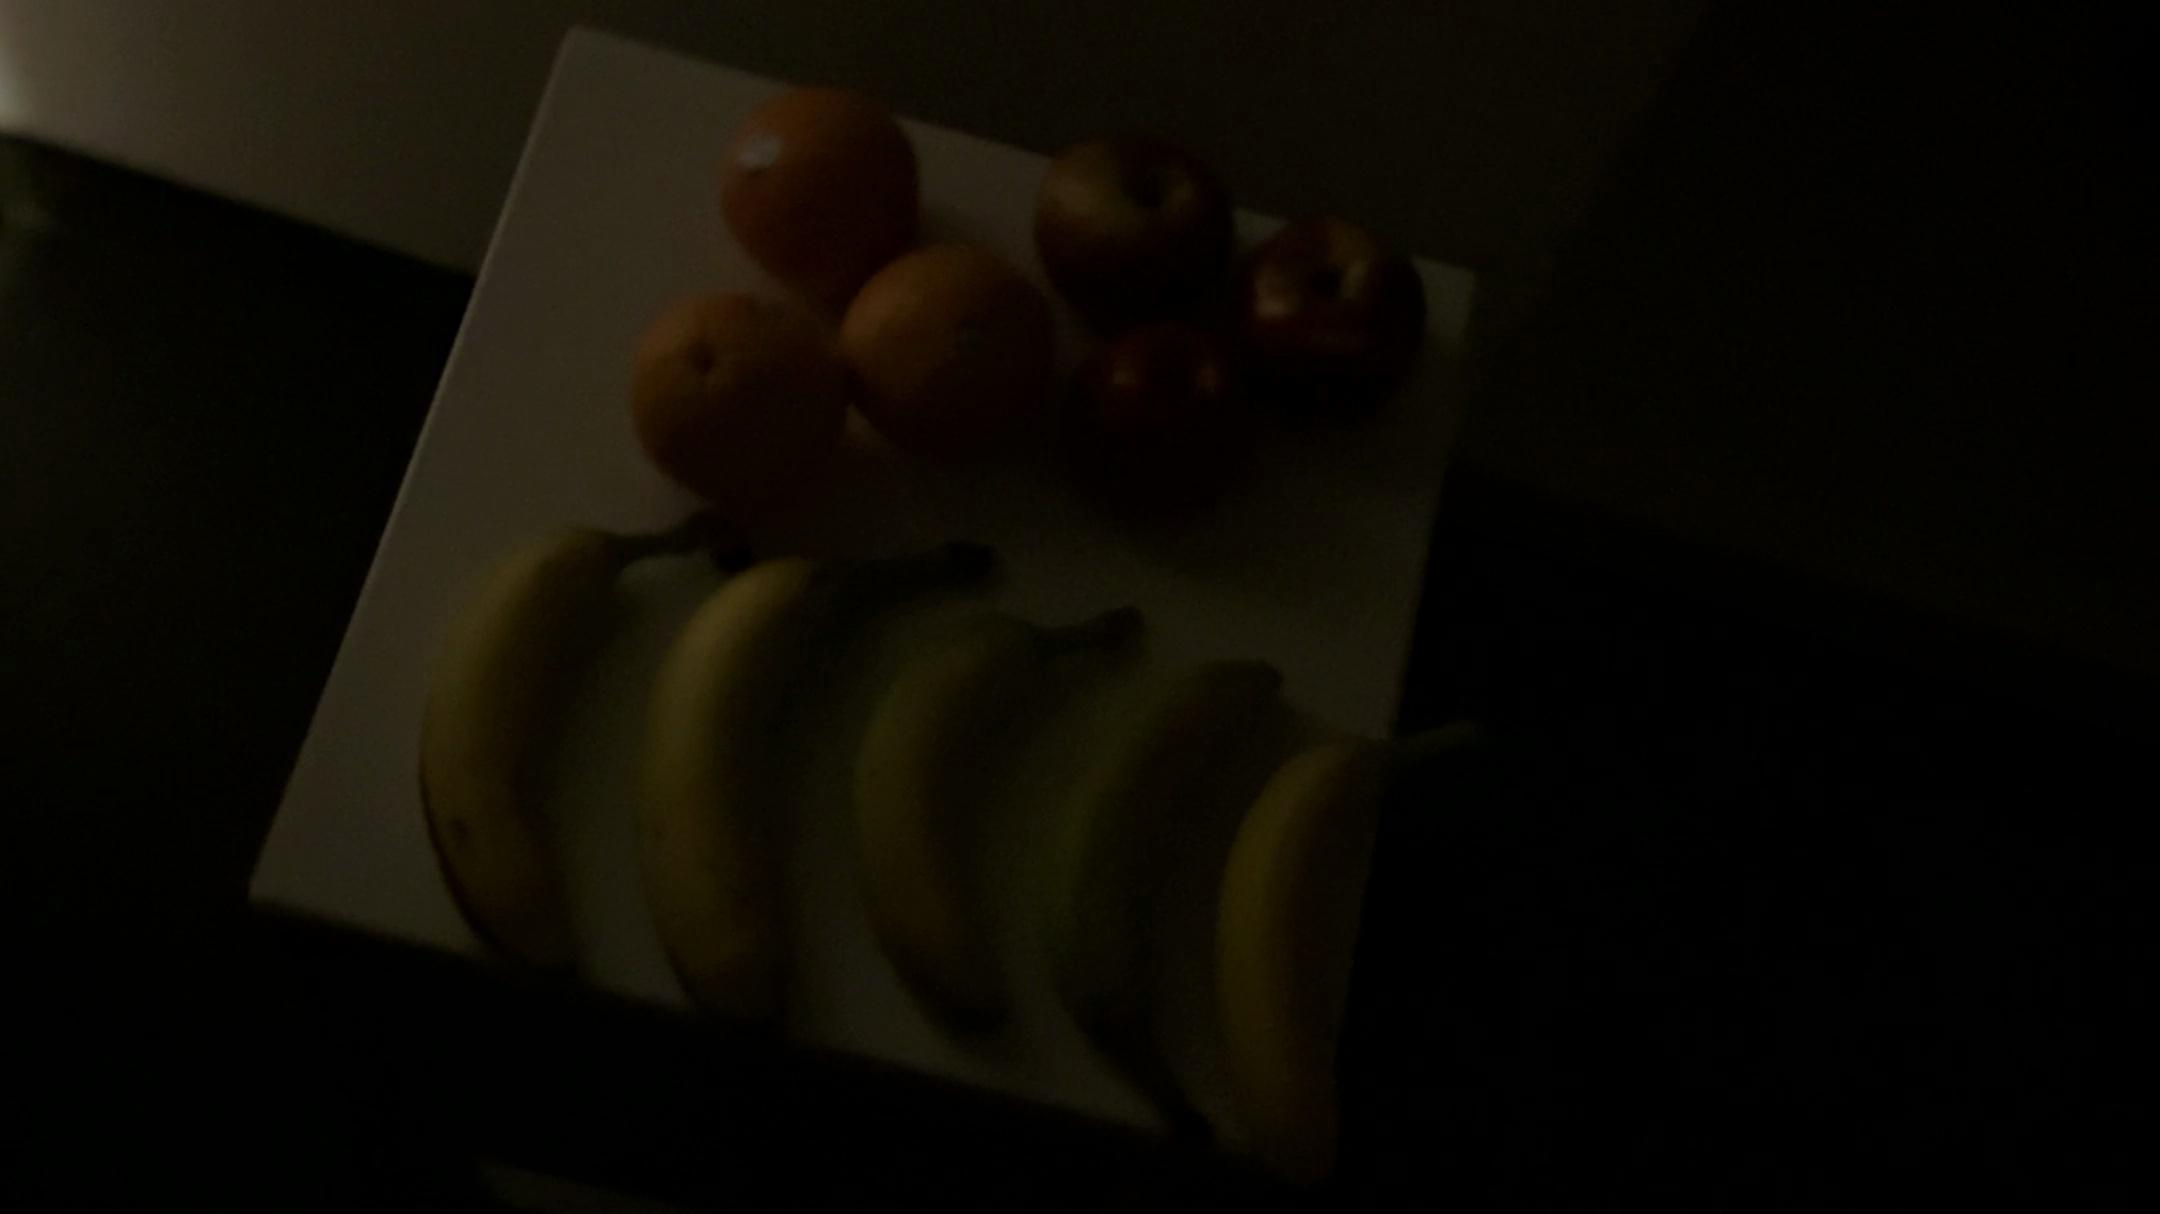apple: (1219, 191, 1440, 436), (1056, 285, 1255, 539), (1013, 114, 1246, 322)
banana: (675, 503, 975, 1054), (859, 567, 1156, 1080), (411, 482, 699, 972), (1044, 625, 1305, 1118), (1202, 699, 1424, 1121)
orange: (826, 227, 1052, 481), (703, 65, 930, 298), (623, 283, 850, 511)
